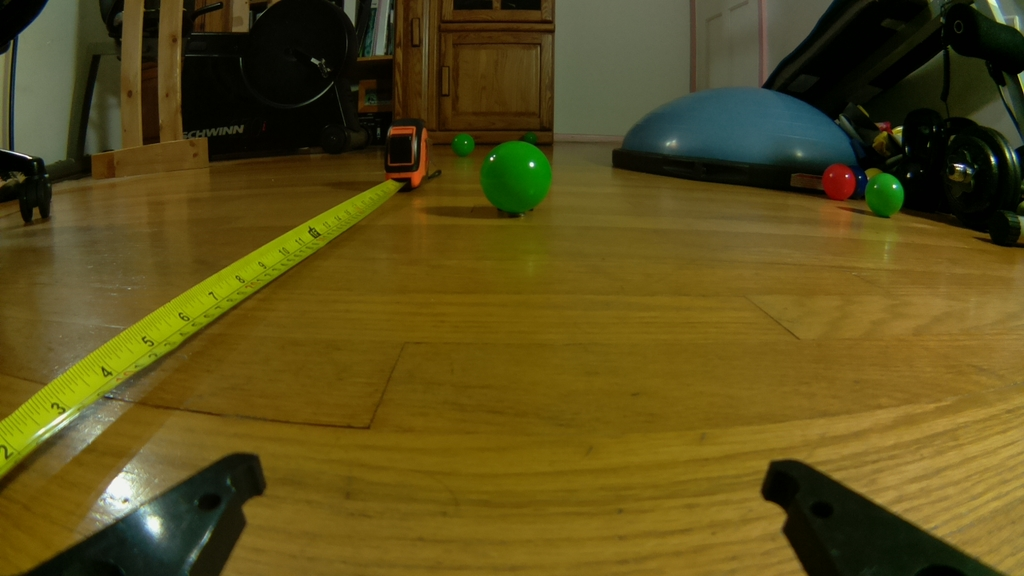ball: (863, 171, 904, 218)
